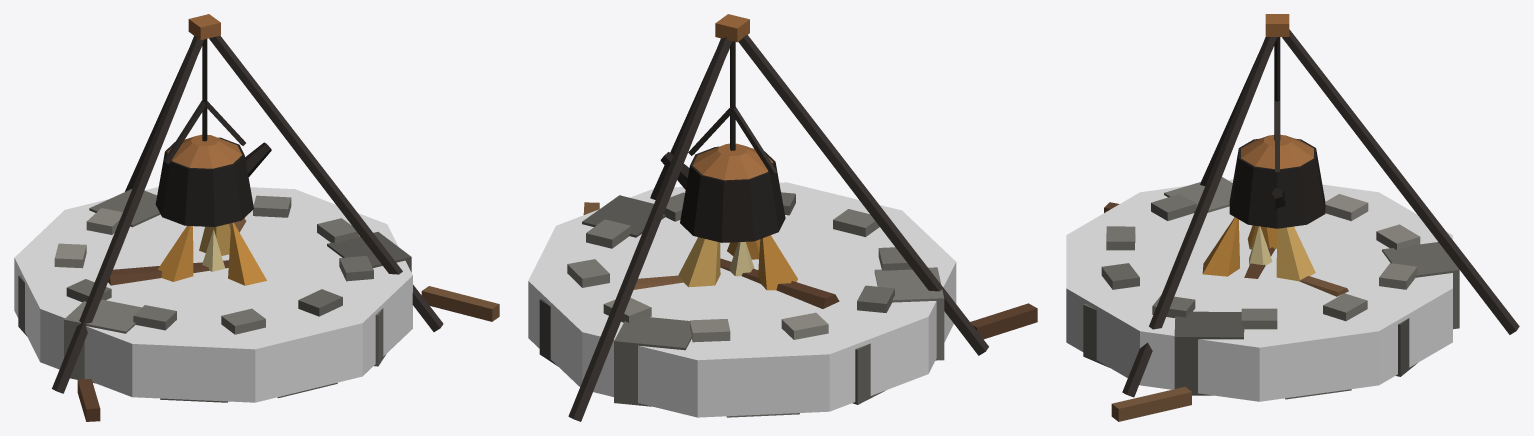
File: camp_fire_pit.glb
3 views of the same model, side by side, from view 1: azimuth 30°, elevation 25°; view 2: azimuth 150°, elevation 25°; view 3: azimuth 270°, elevation 25° (orthographic). The views are drawn at different scales.
Visible parts, largest first — view 1: camp_fire_pit-col-col, Body; view 2: camp_fire_pit-col-col, Body; view 3: camp_fire_pit-col-col, Body.
Boxes of the visible parts, left/top/right/bottom form: camp_fire_pit-col-col: left=14, top=187, right=412, bottom=402; Body: left=18, top=14, right=499, bottom=421; camp_fire_pit-col-col: left=528, top=182, right=956, bottom=417; Body: left=539, top=14, right=1037, bottom=421; camp_fire_pit-col-col: left=1066, top=179, right=1452, bottom=401; Body: left=1083, top=14, right=1519, bottom=421.
Bounding box in the file's own units: 4.09 × 2.77 × 3.79.
